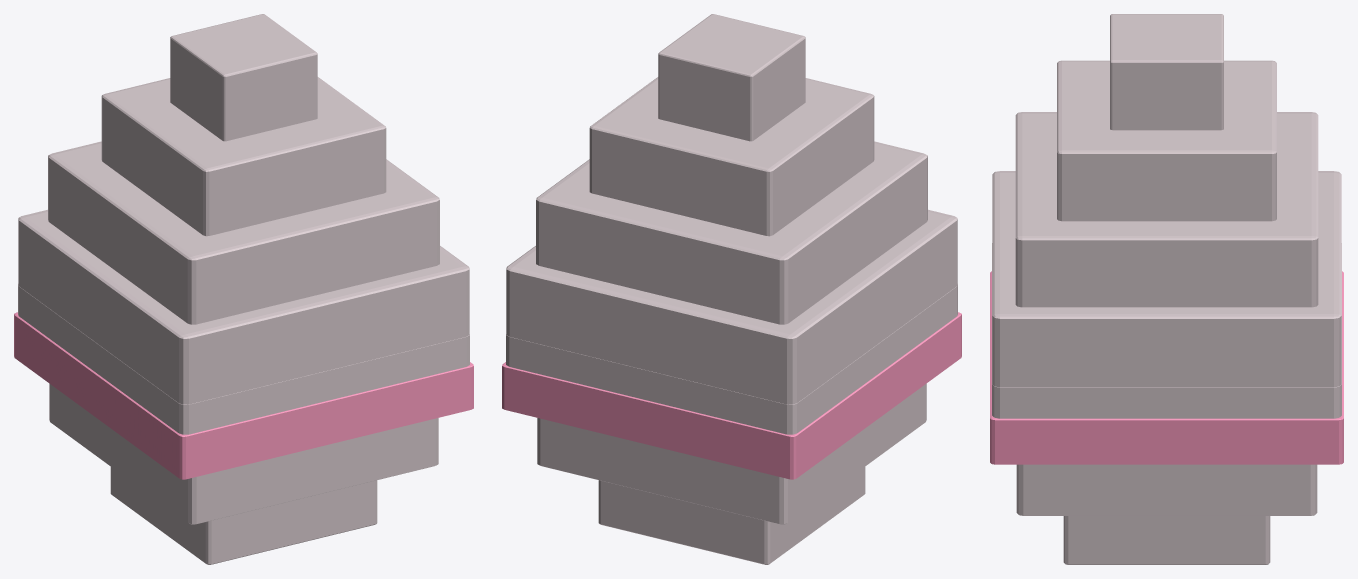
File: egg-blossom.glb
The picture shows the model from 3 angles, left to right: view 1: azimuth 30°, elevation 25°; view 2: azimuth 150°, elevation 25°; view 3: azimuth 270°, elevation 25°; orthographic projection. The views are drawn at different scales.
Parts seen in each view (by area): view 1: body; view 2: body; view 3: body.
Boxes of the visible parts, left/top/right/bottom form: body: left=14, top=14, right=473, bottom=564; body: left=502, top=14, right=961, bottom=564; body: left=990, top=14, right=1343, bottom=564.
Size of the model in its own units: 0.6611 by 1 by 0.6611.
